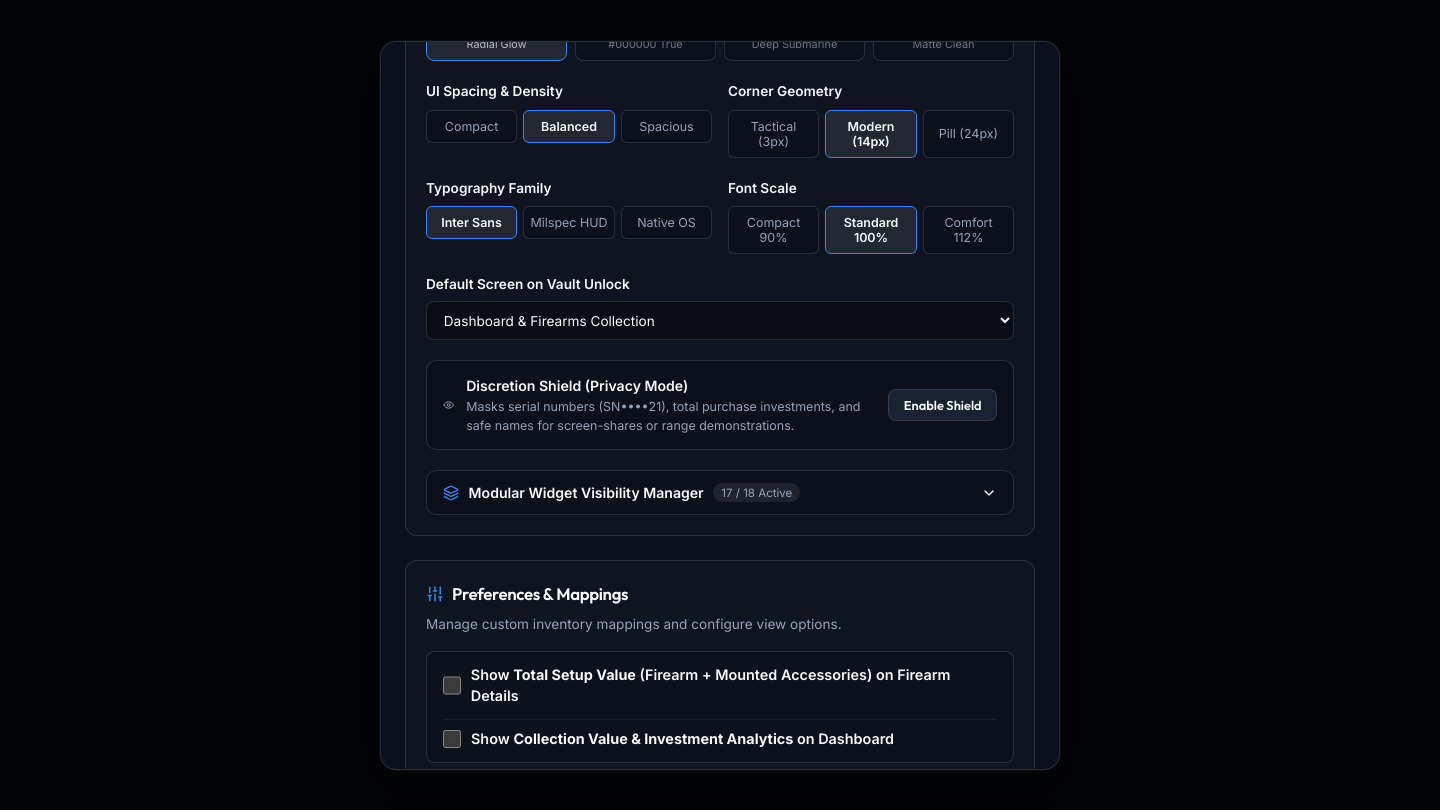
SettingsModal - Appearance & Personalization › toggling Discretion Shield updates privacy mode and button label
(page scrolled)
Click the button "Enable Shield".
click(943, 405)  # box left=888, top=389, right=997, bottom=422
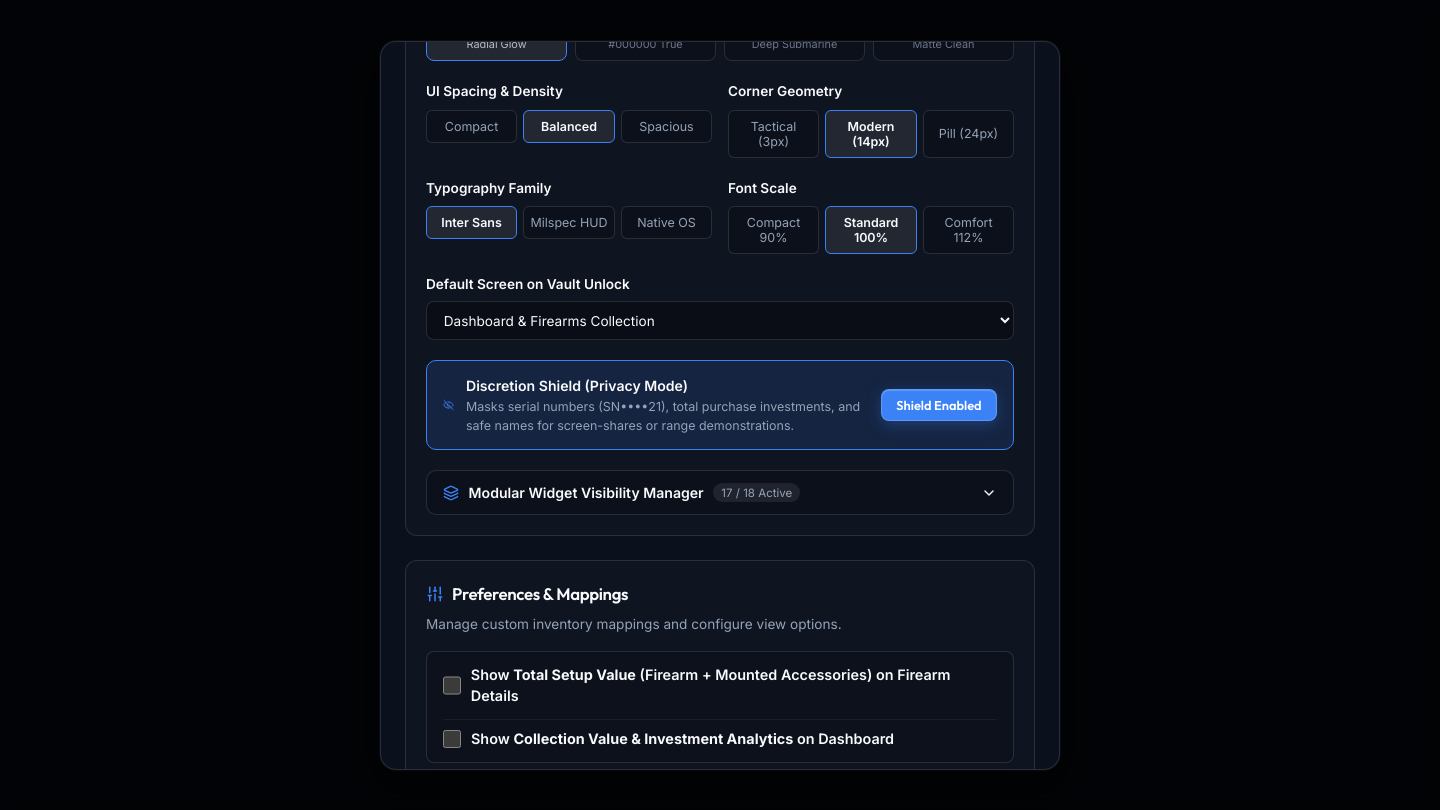
expect the button "Shield Enabled" is shown: met, box left=881, top=389, right=997, bottom=422
